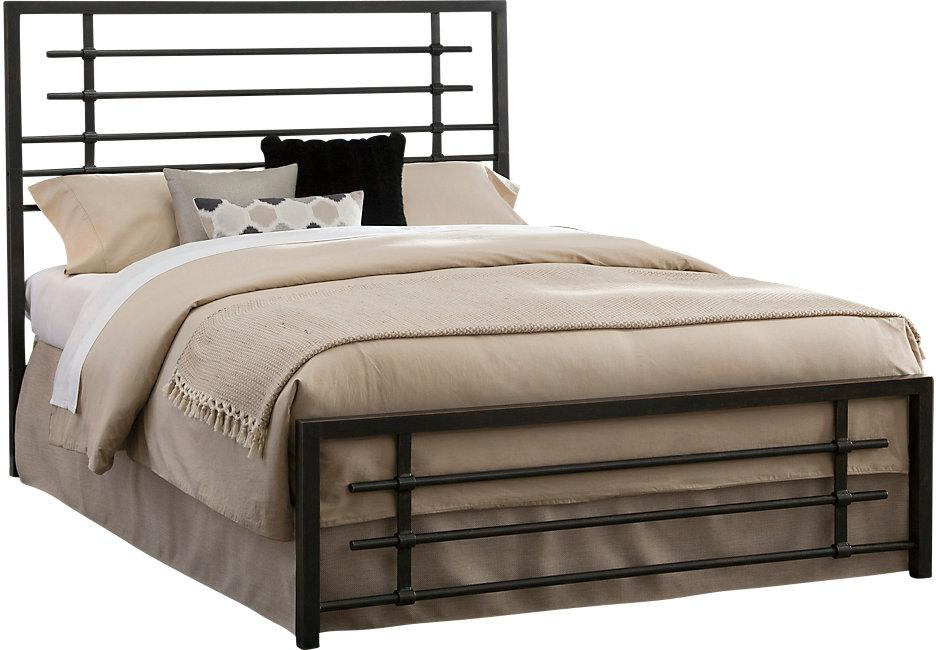bed: (8, 8, 931, 650)
